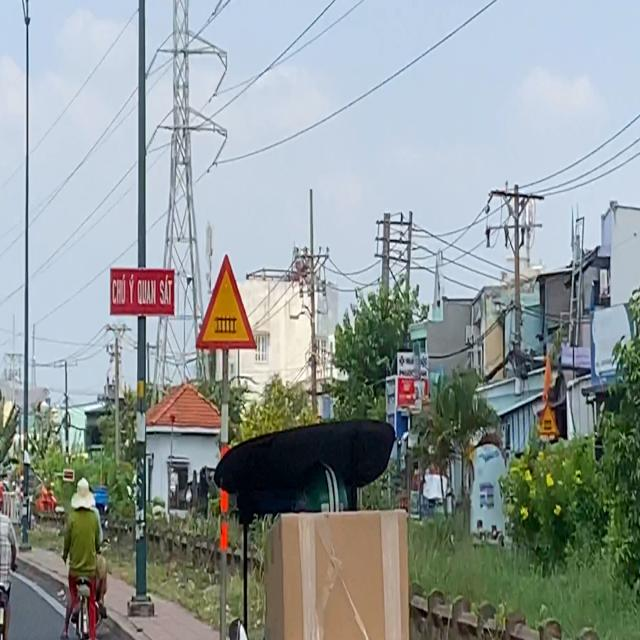Nguy hiem: (195, 252, 258, 350)
